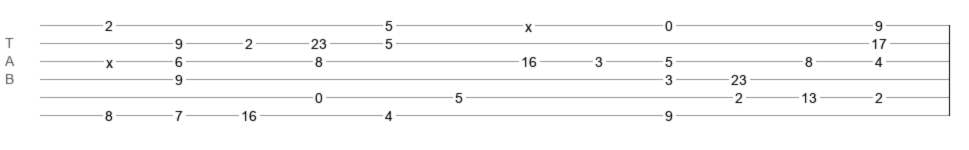0: (315, 90, 323, 100), (665, 18, 673, 28)
13: (801, 90, 817, 100)
16: (241, 108, 257, 118), (521, 54, 537, 64)
17: (871, 36, 887, 46)
2: (105, 18, 113, 28), (245, 36, 253, 46), (735, 90, 743, 100), (875, 90, 883, 100)
23: (311, 36, 327, 46), (731, 72, 747, 82)
3: (595, 54, 603, 64), (665, 72, 673, 82)
4: (385, 108, 393, 118), (875, 54, 883, 64)
5: (385, 36, 393, 46), (385, 18, 393, 28), (455, 90, 463, 100), (665, 54, 673, 64)
6: (175, 54, 183, 64)
7: (175, 108, 183, 118)
8: (105, 108, 113, 118), (315, 54, 323, 64), (805, 54, 813, 64)
9: (175, 72, 183, 82), (175, 36, 183, 46), (665, 108, 673, 118), (875, 18, 883, 28)
x: (106, 55, 113, 63), (525, 19, 532, 27)
